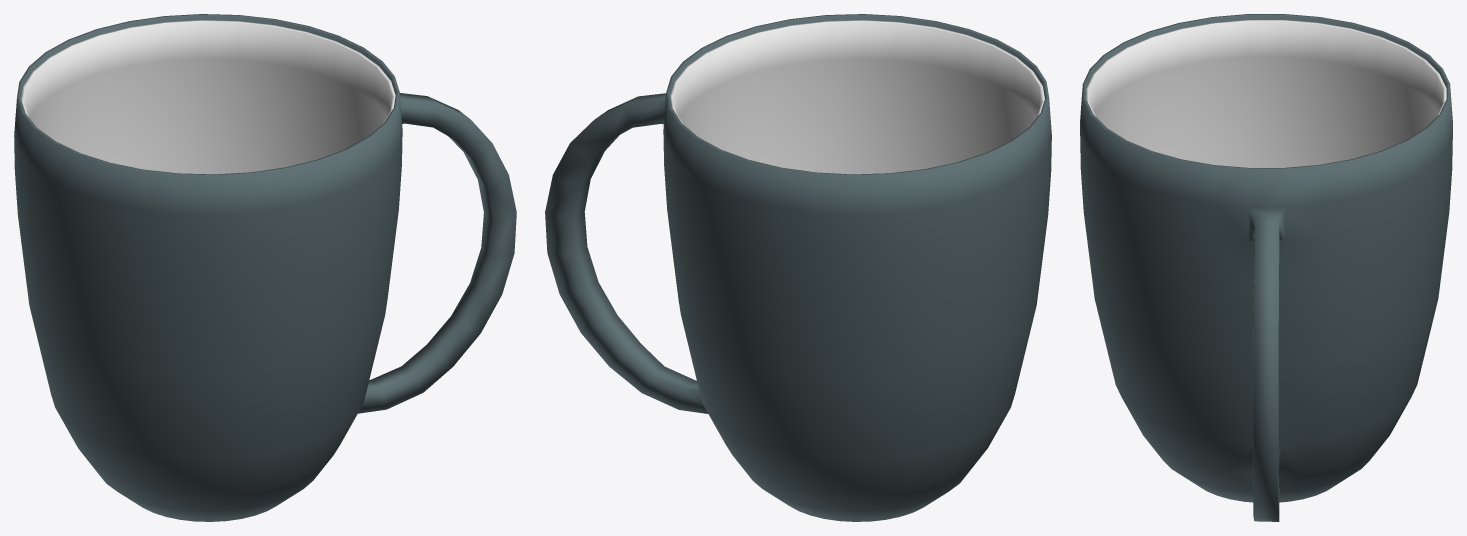
Rendered from cup.gltf.
The picture shows the model from 3 angles, left to right: view 1: azimuth 30°, elevation 25°; view 2: azimuth 150°, elevation 25°; view 3: azimuth 270°, elevation 25°; orthographic projection. The views are drawn at different scales.
Parts seen in each view (by area): view 1: Cup; view 2: Cup; view 3: Cup.
Boxes of the visible parts, x1,y1,x2,y2 form: Cup: (14, 14, 516, 521); Cup: (545, 14, 1051, 521); Cup: (1080, 14, 1452, 521).
Size of the model in its own units: 4.05 by 3.25 by 2.87.
Materials: 1 (1 with a texture image).
